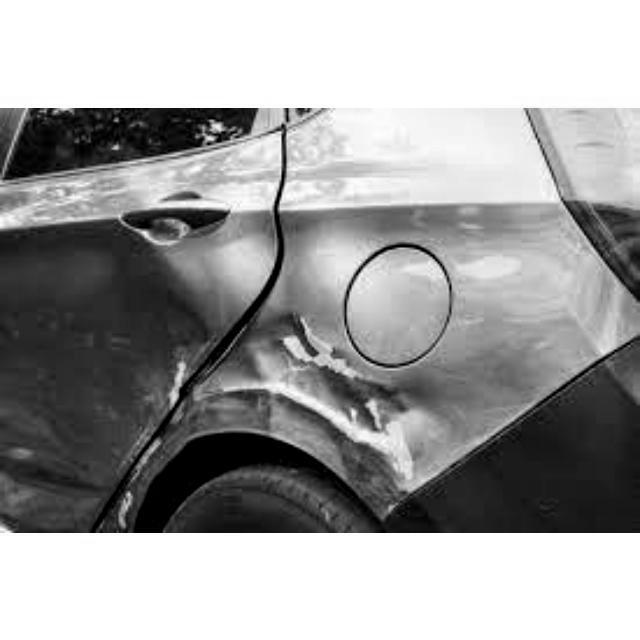doorouter-dent: (1, 158, 196, 446)
quaterpanel-dent: (267, 123, 516, 495)
